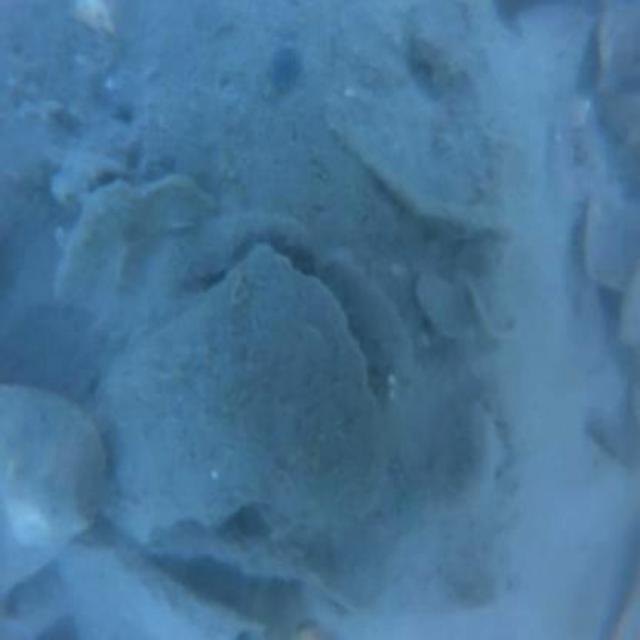Oyster-Closed: (88, 246, 376, 534), (0, 382, 101, 597)
